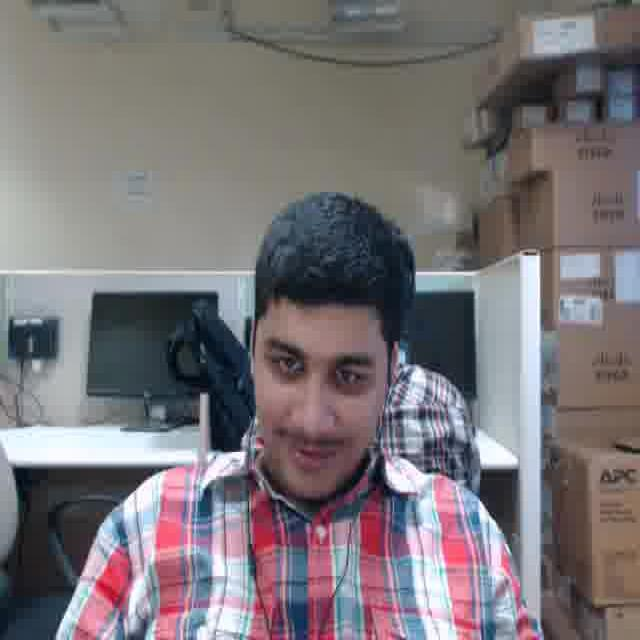Engaged: (254, 294, 382, 494)
